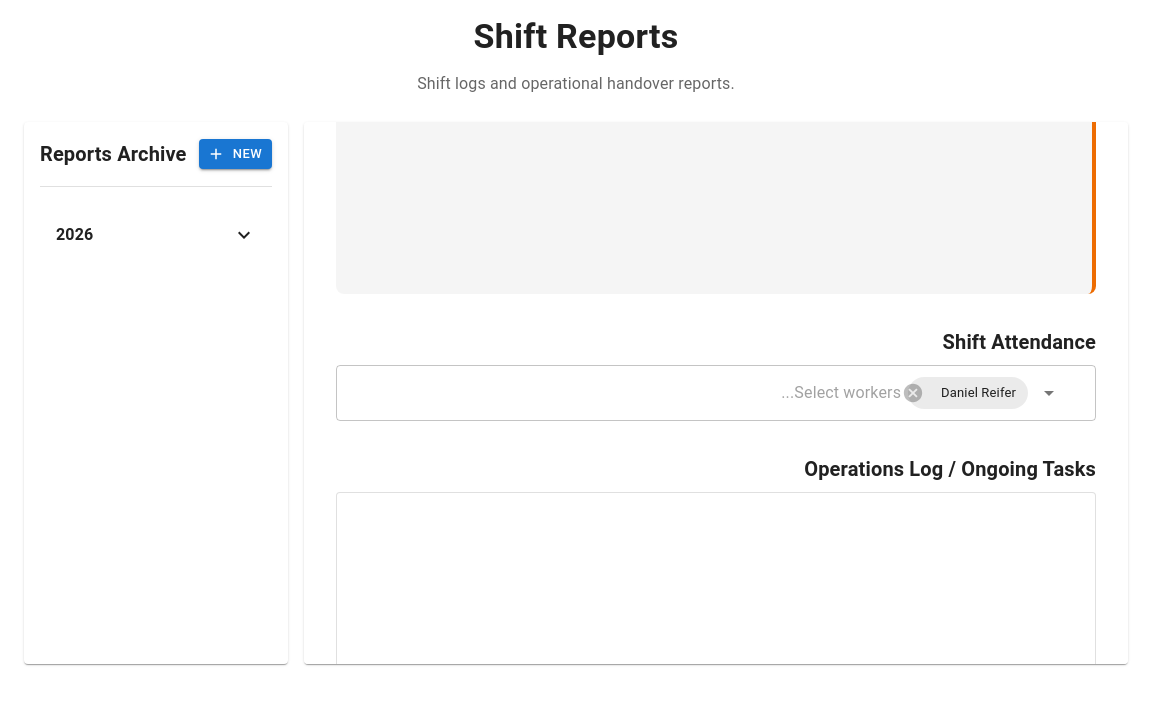
Test case: ShiftReportPage - Background Polling State Shielding › should allow discarding unsaved member modifications
This screenshot has width=1152, height=720.
(page scrolled)
Expected: the text "Daniel Reifer" is shown, [941,385,1016,400]
Note: Remove attendee
Click the icon with test id "CancelIcon": [913, 393] box [902,382,924,404]
(page scrolled)
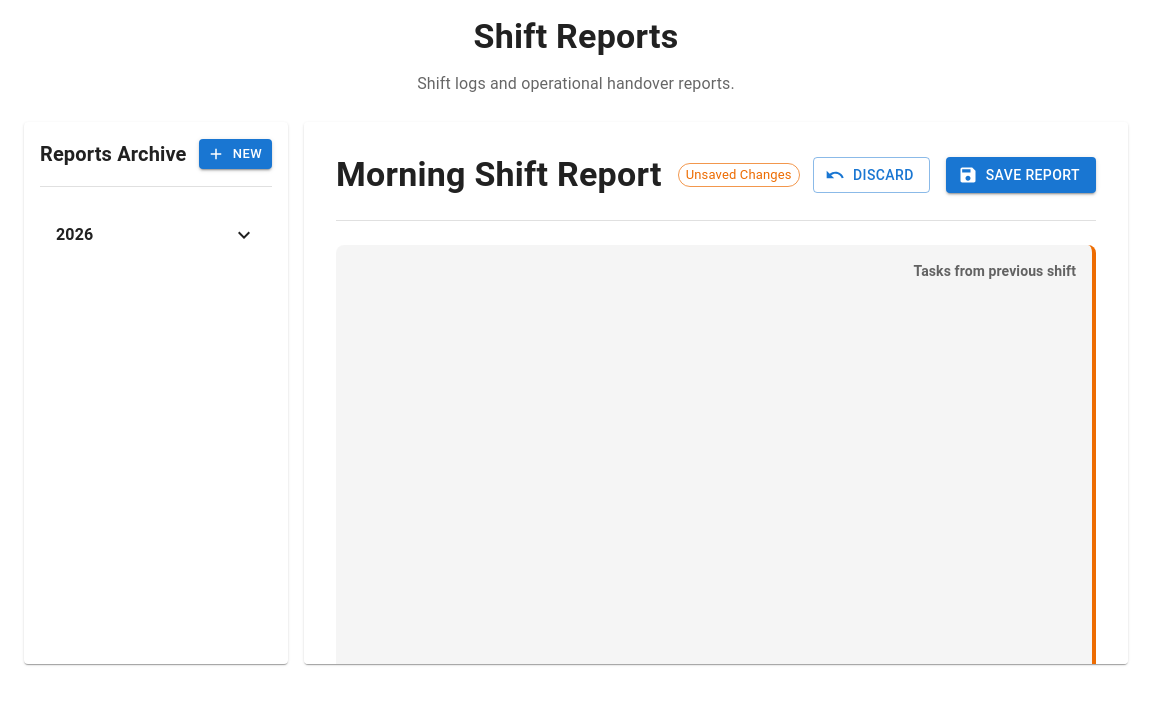
Now the button "Daniel Reifer" is gone
Note: Click Discard
Click the button "Discard": [871, 175] box [813,157,930,193]
(page scrolled)
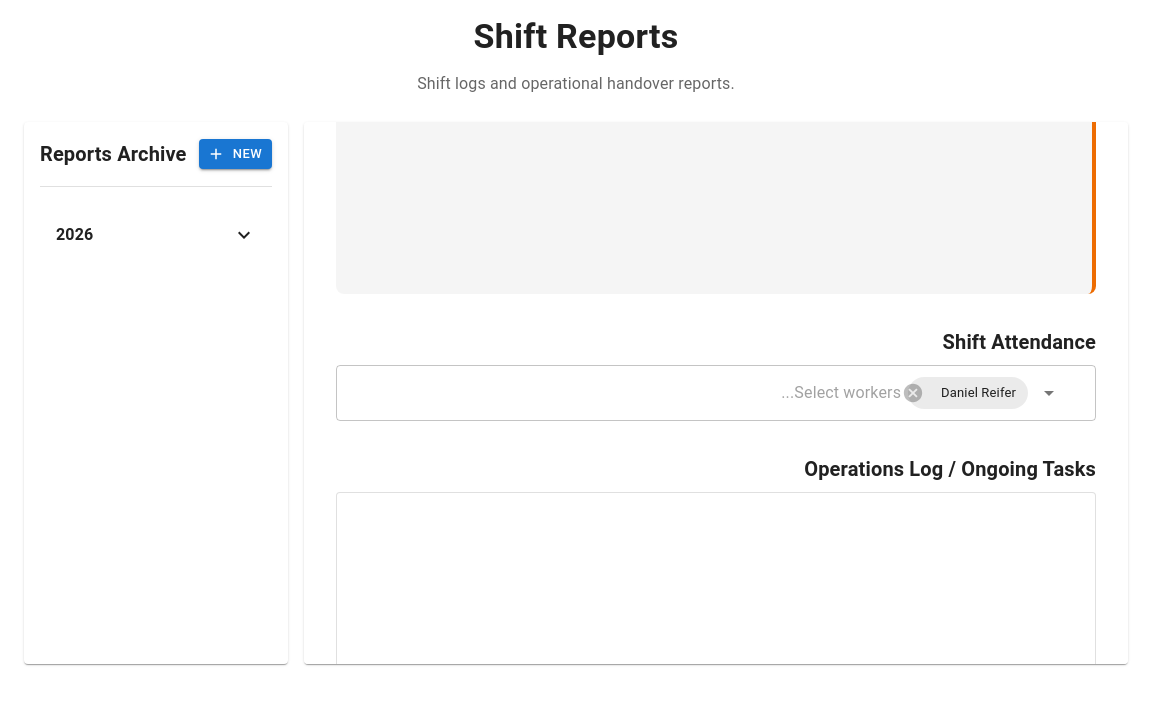
Now the text "Daniel Reifer" is shown, box [941,385,1016,400]
